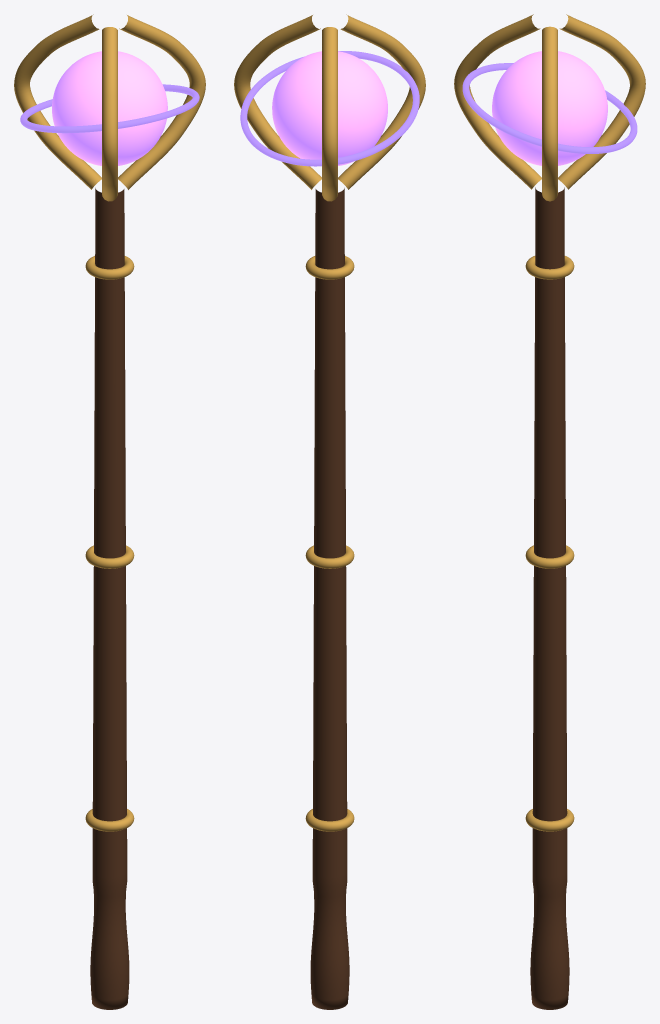
File: staff.glb
3 renders of one model, left to right at view 1: azimuth 30°, elevation 25°; view 2: azimuth 150°, elevation 25°; view 3: azimuth 270°, elevation 25°, orthographic.
Visible parts, largest first — view 1: shaft, prong (×3), orb, band (×3), halo; view 2: shaft, prong (×3), orb, halo, band (×3); view 3: shaft, prong (×3), orb, halo, band (×3).
Part boxes in pixels (x1,y1,x2,y2): shaft: (90,188,129,1009); prong (×3): (14,14,205,201); orb: (52,51,167,165); band (×3): (85,256,134,831); halo: (20,84,199,133); shaft: (310,188,349,1009); prong (×3): (234,14,425,201); orb: (272,51,387,165); halo: (240,51,419,166); band (×3): (305,256,354,831); shaft: (530,187,569,1009); prong (×3): (454,14,645,201); orb: (492,51,607,165); halo: (462,63,637,153); band (×3): (525,256,574,831).
Bounding box in the file's own units: 0.69 × 3.76 × 0.6612.
